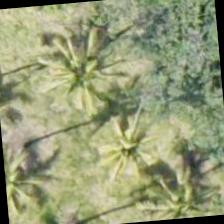Kelapa_Sawit: (77, 99, 175, 197), (32, 34, 130, 132), (134, 149, 223, 222), (2, 130, 58, 224)
